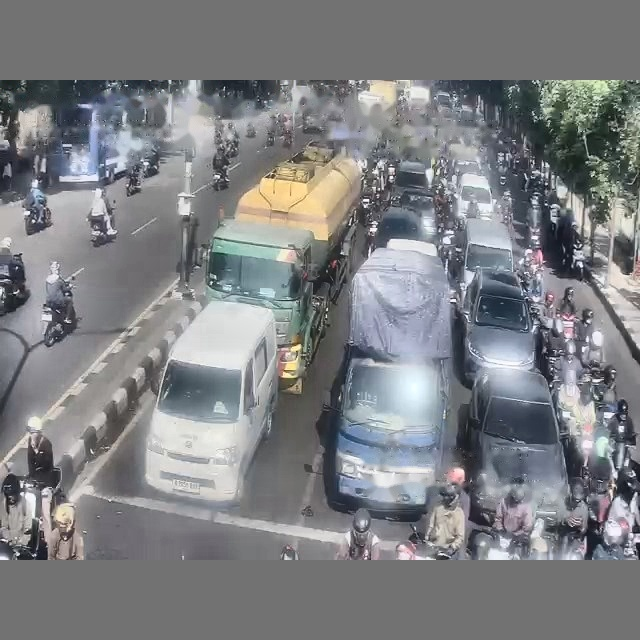Bis: (50, 103, 129, 185)
Mobil: (461, 369, 568, 525), (459, 269, 537, 382), (375, 207, 427, 248), (397, 189, 436, 242), (393, 160, 429, 194), (302, 110, 326, 132), (456, 160, 484, 176), (458, 105, 475, 125)
Motor: (41, 304, 76, 347), (0, 265, 26, 315), (87, 214, 115, 246), (23, 206, 51, 235), (125, 167, 143, 197), (572, 244, 584, 281), (212, 170, 228, 190), (246, 122, 256, 137), (266, 131, 274, 146)
Truk: (206, 145, 360, 394), (324, 248, 452, 514)
